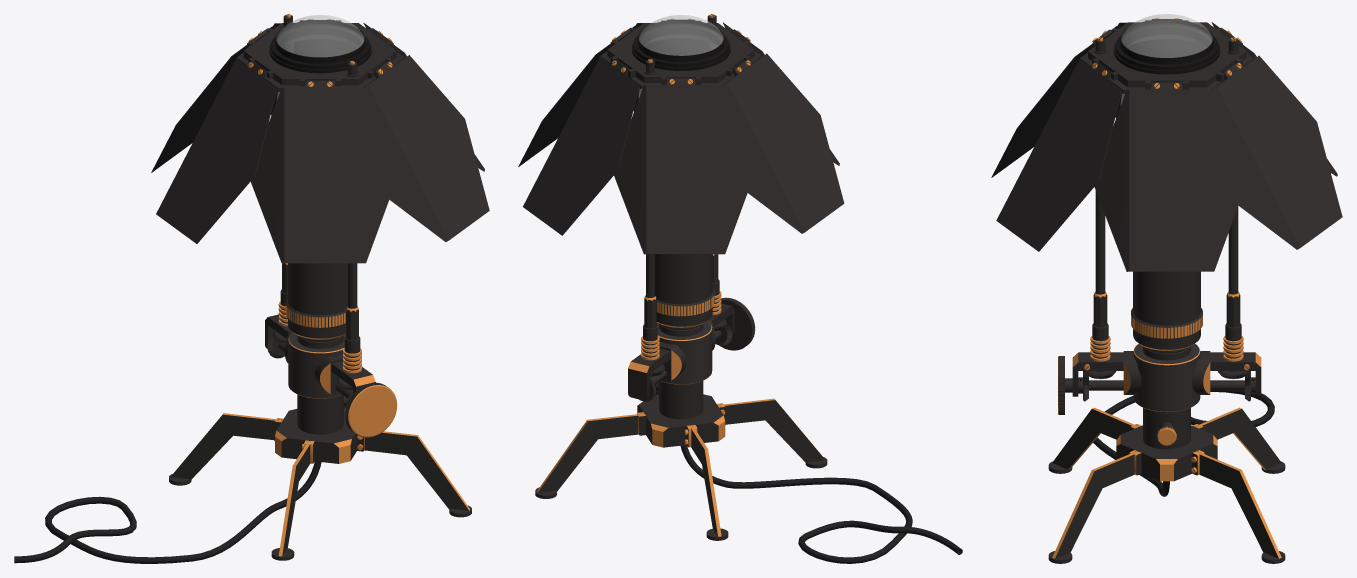
The model's file is lamp_draft.glb.
The picture shows the model from 3 angles, left to right: view 1: azimuth 30°, elevation 25°; view 2: azimuth 150°, elevation 25°; view 3: azimuth 270°, elevation 25°; orthographic projection. The views are drawn at different scales.
Visible parts, largest first — view 1: Plane.001, Cube.009, BezierCurve, Cylinder.029, Cylinder.040, Cylinder.041, Cube.006, Cylinder.036, Cylinder.030, Cylinder.031, Cylinder.052, Cylinder.011 (+5 smaller); view 2: Plane.001, Cube.009, BezierCurve, Cylinder.029, Cylinder.040, Cylinder.041, Cube.006, Cylinder.030, Cylinder.031, Cylinder.052, Cube.007, Cylinder.011 (+4 smaller); view 3: Plane.001, Cube.009, Cylinder.029, Cylinder.031, Cylinder.040, Cylinder.041, Cube.006, Cylinder.052, Cube.007, Cylinder.030, Cylinder.037, Cylinder.032 (+10 smaller).
Part boxes in pixels (x1,y1,x2,y2): Plane.001: (151,19,489,263); Cube.009: (171,405,470,556); BezierCurve: (14,461,321,563); Cylinder.029: (288,263,347,339); Cylinder.040: (243,23,396,85); Cylinder.041: (276,15,363,56); Cube.006: (275,409,356,463); Cylinder.036: (345,382,397,437); Cylinder.030: (297,335,343,434); Cylinder.031: (288,332,345,398); Cylinder.052: (269,26,371,73); Cylinder.011: (275,20,365,63); Plane.001: (518,18,844,254); Cube.009: (537,391,825,536); BezierCurve: (680,445,962,563); Cylinder.029: (655,254,712,327); Cylinder.040: (607,23,754,82); Cylinder.041: (639,15,723,55); Cube.006: (637,394,725,447); Cylinder.030: (659,323,703,419); Cylinder.031: (656,321,712,384); Cylinder.052: (632,25,730,70); Cube.007: (628,303,734,400); Cylinder.011: (638,19,724,61); Plane.001: (991,18,1342,271); Cube.009: (1052,407,1281,558); Cylinder.029: (1133,271,1200,350); Cylinder.031: (1133,344,1200,412); Cylinder.040: (1088,22,1246,87); Cylinder.041: (1121,14,1212,57); Cube.006: (1116,425,1217,481); Cylinder.052: (1113,25,1220,74); Cube.007: (1072,352,1261,396); Cylinder.030: (1143,346,1190,449); Cylinder.037: (1095,190,1238,294); Cylinder.032: (1123,351,1210,394).
Size of the model in its own units: 8.08 by 8.22 by 5.31.
